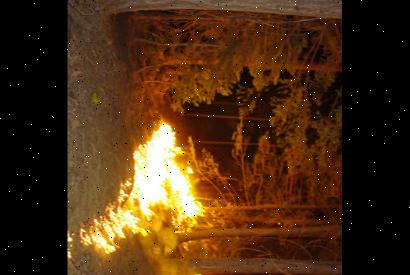fire: (68, 119, 219, 275)
